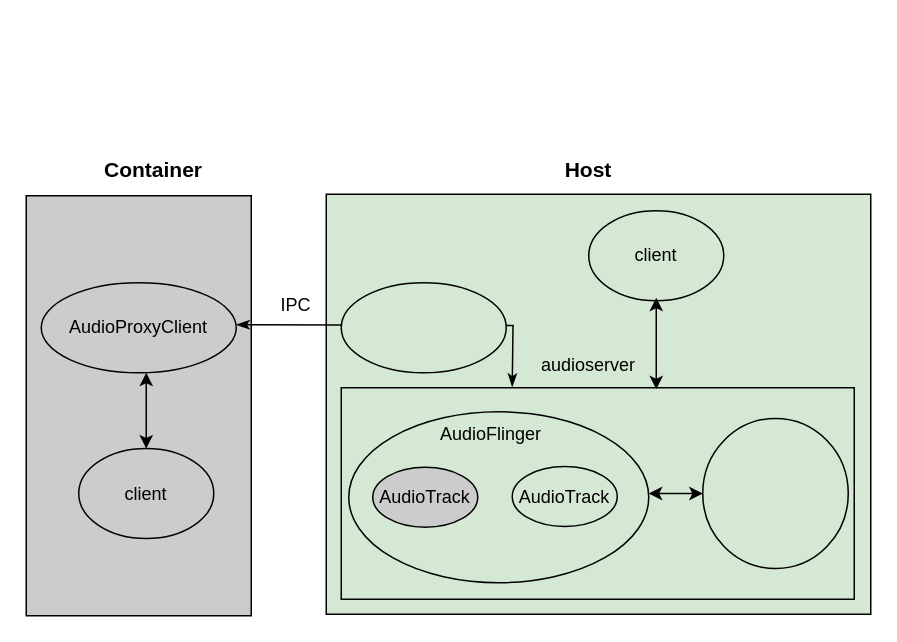
Image size: 897x642. Some labels were removed from this diagram. The centre of each missing label's shape, as x and y in pixels:
AudioPolicy: point 774,492
AudioProxyService: point 423,327
